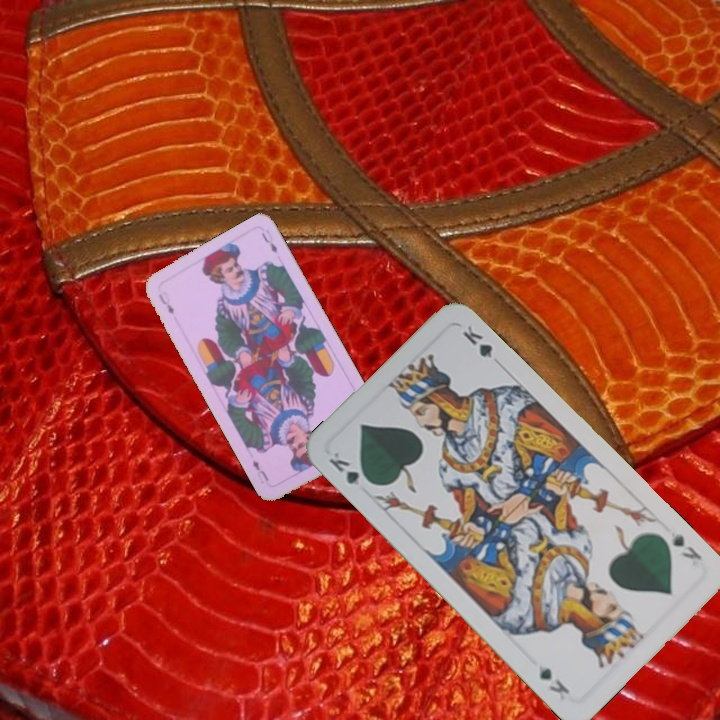EU: (154, 287, 177, 317)
GK: (325, 448, 376, 489), (665, 527, 705, 563)
